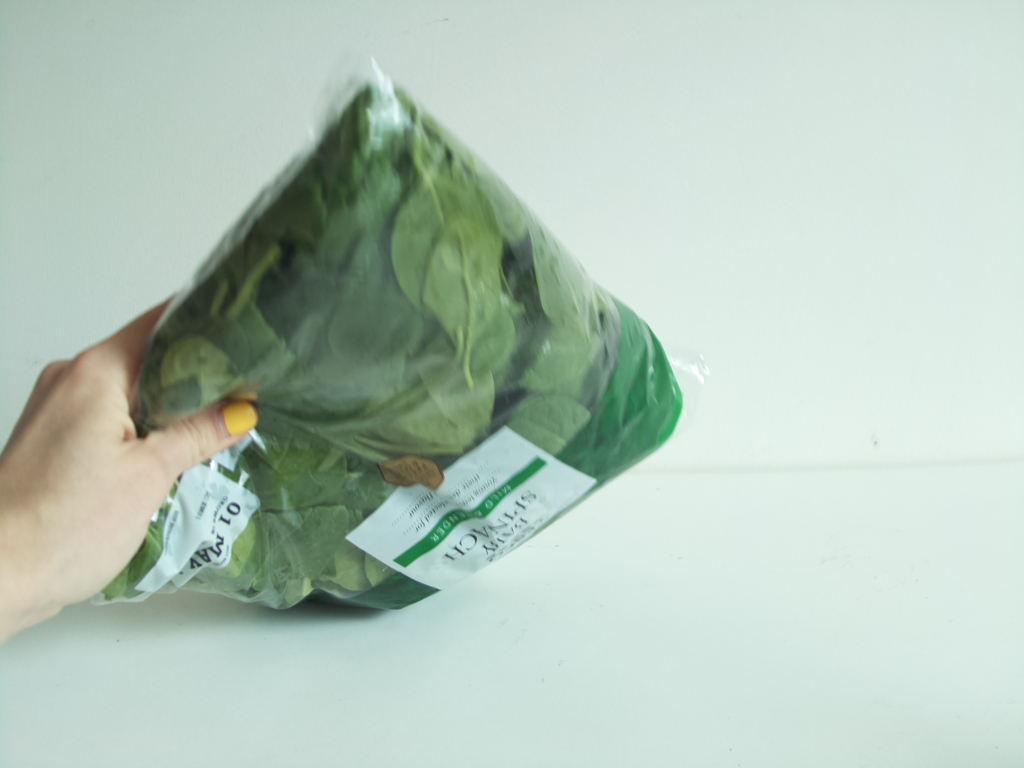salad: (105, 63, 691, 624)
